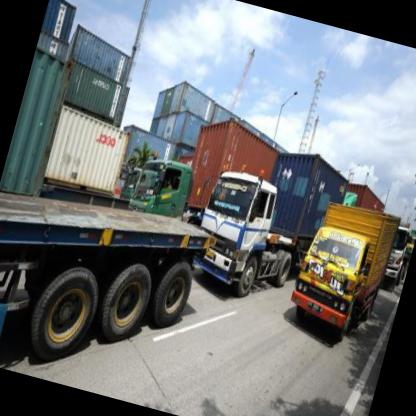truck: (185, 167, 282, 304), (284, 219, 375, 348)
